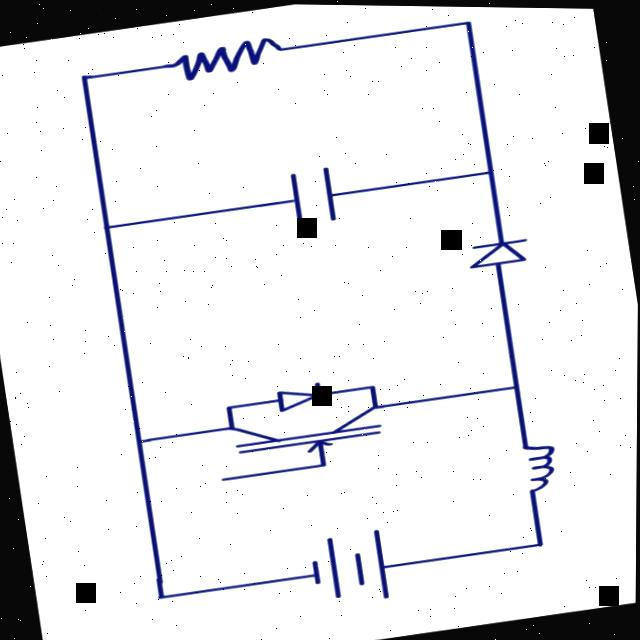capacitor: (258, 149, 375, 240)
diode: (446, 220, 547, 289), (253, 367, 346, 418)
inductor: (484, 420, 579, 505)
mosfet: (193, 387, 397, 508)
resistor: (152, 19, 320, 101)
source: (268, 510, 424, 621)
